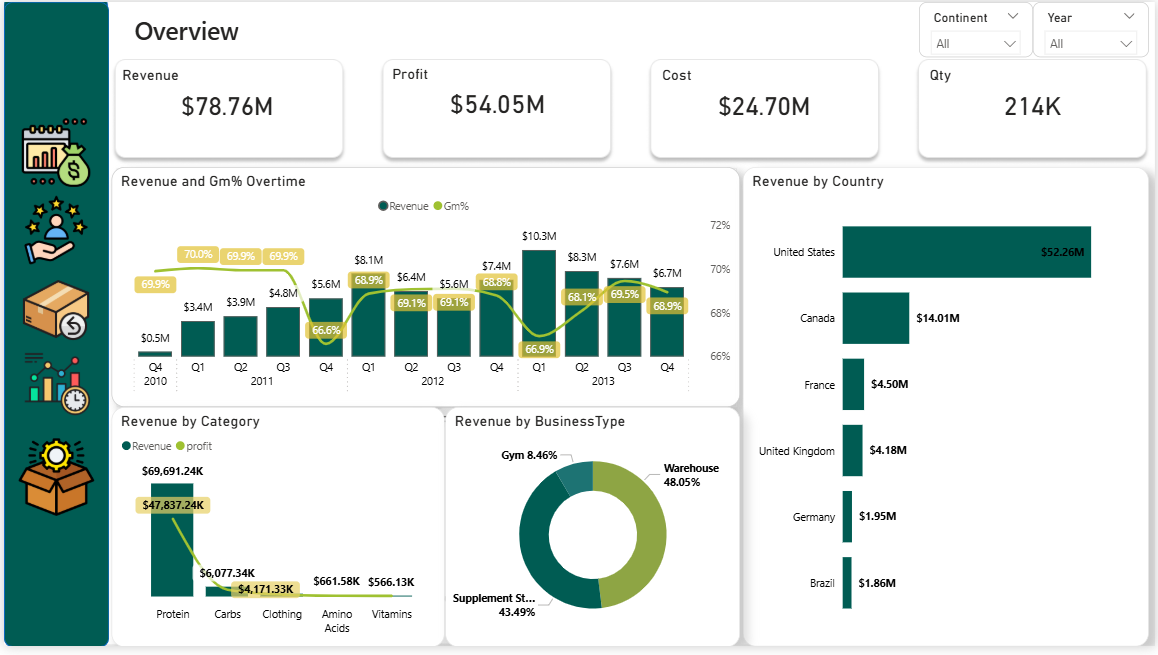

The page's visual inventory and layout, read from the dashboard file:
{"tool":"powerbi","page":{"name":"Overview","canvas":[1316,737],"ordinal":0},"visuals":[{"type":"card","title":"Revenue","fields":{"Values":["#Measures.Revenue"]},"box":[129.9,72.5,250.7,69.5],"z":0},{"type":"slicer","fields":{"Values":["Date Table.Year"]},"box":[1175,0,133,63],"z":1000},{"type":"card","title":"Cost","fields":{"Values":["#Measures.Cost"]},"box":[747.1,72.5,243.7,69.5],"z":2000},{"type":"card","title":"Profit","fields":{"Values":["#Measures.profit"]},"box":[438,72,251,69],"z":3000},{"type":"card","title":"Qty","fields":{"Values":["#Measures.Qty"]},"box":[1052.1,72.5,245.7,69.5],"z":4000},{"type":"shape","box":[0,0,120,737],"z":5000},{"type":"lineClusteredColumnComboChart","title":"Revenue and Gm% Overtime","fields":{"Y":["#Measures.Revenue"],"Category":["Date Table.Year","Date Table.quarter"],"Y2":["#Measures.Gm%"]},"box":[123,189,718,274],"z":6000},{"type":"clusteredBarChart","title":"Revenue by Country","fields":{"Category":["Customers.CountryName"],"Y":["#Measures.Revenue"]},"box":[844,189,464,548],"z":7000},{"type":"lineClusteredColumnComboChart","title":"Revenue by Category","fields":{"Category":["Product.CategoryName"],"Y":["#Measures.Revenue"],"Y2":["#Measures.profit"]},"box":[123,463,381,274],"z":8000},{"type":"donutChart","fields":{"Y":["#Measures.Revenue"],"Category":["Customers.BusinessType"]},"box":[504,463,337,274],"z":9000},{"type":"slicer","fields":{"Values":["Customers.Continent"]},"box":[1045,0,130,63],"z":10000},{"type":"cardVisual","fields":{"Data":["#Measures.Show over Revenue"]},"box":[111,138,186,47],"z":11000},{"type":"cardVisual","title":"Var from LY","fields":{"Data":["#Measures.Showover Profit"]},"box":[424,138,198,47],"z":12000},{"type":"cardVisual","fields":{"Data":["#Measures.Arrow(profit)"]},"box":[612,120,92,63],"z":13000},{"type":"cardVisual","fields":{"Data":["#Measures.Arrow(Revenue)"]},"box":[315,120,87,74],"z":14000},{"type":"cardVisual","fields":{"Data":["#Measures.Show over Cost"]},"box":[734,132,192,49],"z":15000},{"type":"cardVisual","fields":{"Data":["#Measures.Arrow(cost)"]},"box":[926,123,85,61],"z":16000},{"type":"cardVisual","fields":{"Data":["#Measures.Showover Qty"]},"box":[1036,133,162,47],"z":17000},{"type":"cardVisual","fields":{"Data":["#Measures.Arrow(Qty)"]},"box":[1221,125,95,53],"z":18000},{"type":"cardVisual","fields":{"Data":["#Measures.Show over"]},"box":[111,119,238,48],"z":19000},{"type":"cardVisual","fields":{"Data":["#Measures.Show over"]},"box":[424,120,173,47],"z":20000},{"type":"cardVisual","fields":{"Data":["#Measures.Show over"]},"box":[734,115,189,52],"z":21000},{"type":"cardVisual","fields":{"Data":["#Measures.Show over"]},"box":[1036,111,210,56],"z":22000},{"type":"cardVisual","fields":{"Data":["#Measures.Revenue Analysis show over"]},"box":[120,0,489.1,62.7],"z":23000},{"type":"image","box":[4.5,132.7,110.9,78.2],"z":24000},{"type":"image","box":[4.5,221.8,110.9,78.2],"z":25000},{"type":"image","box":[4.5,312.7,110.9,78.2],"z":26000},{"type":"image","box":[0,397.3,120,79.1],"z":27000},{"type":"image","box":[4.5,498.2,110.9,89.1],"z":28000}]}

Visuals, with their boxes in screenshot pixels (x1, y1, x2, y2), scaled from the page's 1316x737 canvas onto the 1158x655 screenshot:
"Revenue" card: locate(114, 64, 335, 126)
slicer - Date Table.Year: locate(1034, 0, 1151, 56)
"Cost" card: locate(657, 64, 872, 126)
"Profit" card: locate(385, 64, 606, 125)
"Qty" card: locate(926, 64, 1142, 126)
shape: locate(0, 0, 106, 654)
"Revenue and Gm% Overtime" lineClusteredColumnComboChart: locate(108, 168, 740, 411)
"Revenue by Country" clusteredBarChart: locate(743, 168, 1151, 654)
"Revenue by Category" lineClusteredColumnComboChart: locate(108, 411, 443, 654)
donutChart - #Measures.Revenue x Customers.BusinessType: locate(443, 411, 740, 654)
slicer - Customers.Continent: locate(920, 0, 1034, 56)
cardVisual - #Measures.Show over Revenue: locate(98, 123, 261, 164)
"Var from LY" cardVisual: locate(373, 123, 547, 164)
cardVisual - #Measures.Arrow(profit): locate(539, 107, 619, 163)
cardVisual - #Measures.Arrow(Revenue): locate(277, 107, 354, 172)
cardVisual - #Measures.Show over Cost: locate(646, 117, 815, 161)
cardVisual - #Measures.Arrow(cost): locate(815, 109, 890, 164)
cardVisual - #Measures.Showover Qty: locate(912, 118, 1054, 160)
cardVisual - #Measures.Arrow(Qty): locate(1074, 111, 1157, 158)
cardVisual - #Measures.Show over: locate(98, 106, 307, 148)
cardVisual - #Measures.Show over: locate(373, 107, 525, 148)
cardVisual - #Measures.Show over: locate(646, 102, 812, 148)
cardVisual - #Measures.Show over: locate(912, 99, 1096, 148)
cardVisual - #Measures.Revenue Analysis show over: locate(106, 0, 536, 56)
image: locate(4, 118, 102, 187)
image: locate(4, 197, 102, 267)
image: locate(4, 278, 102, 347)
image: locate(0, 353, 106, 423)
image: locate(4, 443, 102, 522)
